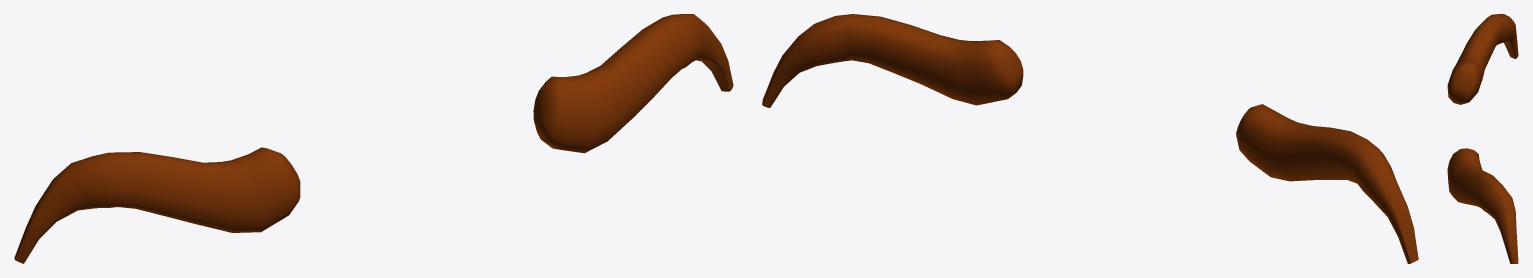
The model's file is Eyebrows_28_02.fbx.
3 views of the same model, side by side, from view 1: azimuth 30°, elevation 25°; view 2: azimuth 150°, elevation 25°; view 3: azimuth 270°, elevation 25° (orthographic). The views are drawn at different scales.
Visible parts, largest first — view 1: Eyebrows_28_02; view 2: Eyebrows_28_02; view 3: Eyebrows_28_02.
Boxes of the visible parts, bbox=[...] form: Eyebrows_28_02: bbox=[14, 14, 733, 263]; Eyebrows_28_02: bbox=[762, 14, 1418, 263]; Eyebrows_28_02: bbox=[1447, 14, 1518, 263].
Size of the model in its own units: 18.81 by 2.62 by 2.68.
